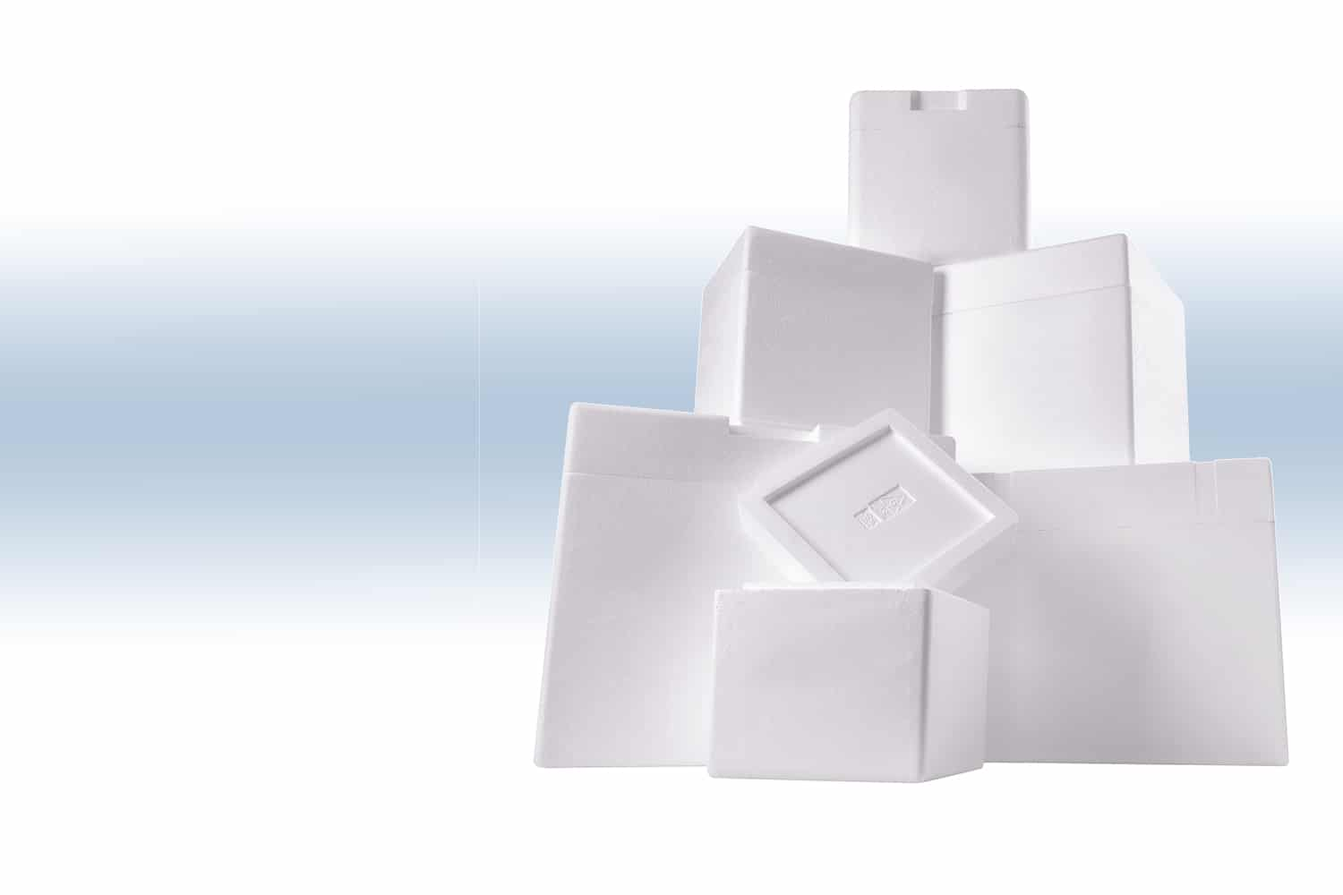Boxes: (537, 90, 1287, 782)
